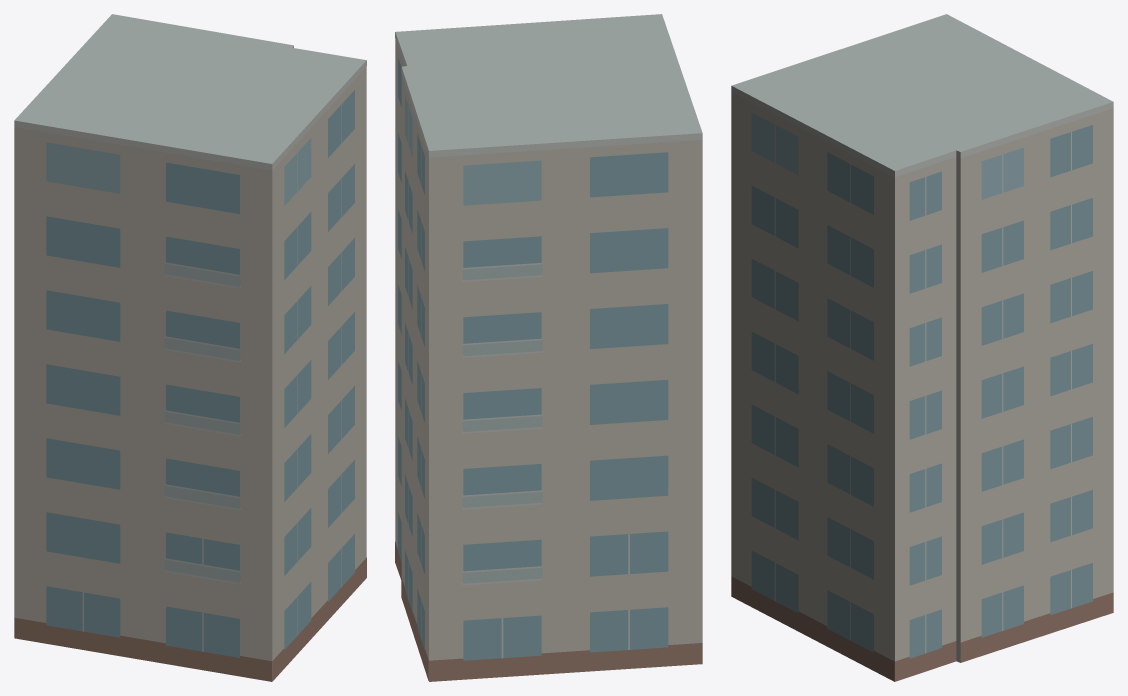
Rendered from survey-upis-32677888.glb.
3 views of the same model, side by side, from view 1: azimuth 30°, elevation 25°; view 2: azimuth 150°, elevation 25°; view 3: azimuth 270°, elevation 25° (orthographic). The views are drawn at different scales.
Parts seen in each view (by area): view 1: survey-upis-32677888.tmp; view 2: survey-upis-32677888.tmp; view 3: survey-upis-32677888.tmp.
Part boxes in pixels (left/top/right/bottom): survey-upis-32677888.tmp: left=14, top=14, right=366, bottom=681; survey-upis-32677888.tmp: left=395, top=14, right=702, bottom=681; survey-upis-32677888.tmp: left=731, top=14, right=1113, bottom=681.
Size of the model in its own units: 13.09 by 19.84 by 13.47.
